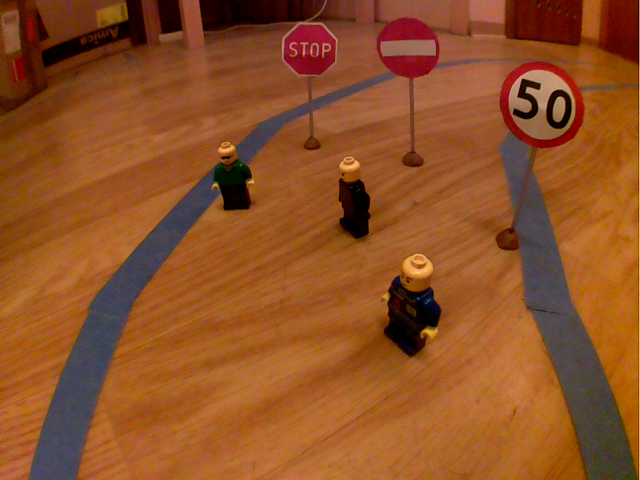Ograniczenie 50: (493, 57, 590, 155)
Postac LEGO: (377, 247, 452, 366), (331, 154, 385, 246), (208, 138, 262, 217)
Stop: (277, 18, 342, 81)
Zakaz: (374, 13, 445, 83)
